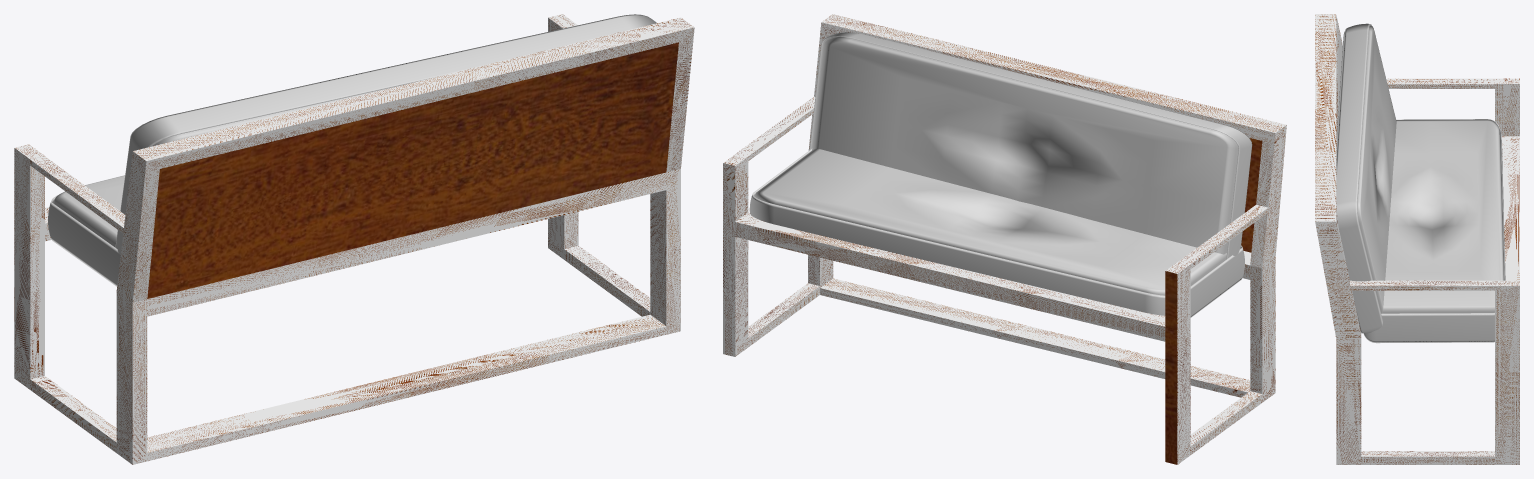
The picture shows the model from 3 angles, left to right: view 1: azimuth 30°, elevation 25°; view 2: azimuth 150°, elevation 25°; view 3: azimuth 270°, elevation 25°; orthographic projection. The views are drawn at different scales.
Parts seen in each view (by area): view 1: mesh3_mesh3-geometry, mesh1_mesh1-geometry; view 2: mesh1_mesh1-geometry, mesh3_mesh3-geometry; view 3: mesh1_mesh1-geometry, mesh3_mesh3-geometry.
Part boxes in pixels (x1=…): mesh3_mesh3-geometry: x1=14, y1=14, x2=694, y2=464; mesh1_mesh1-geometry: x1=48, y1=14, x2=656, y2=286; mesh1_mesh1-geometry: x1=749, y1=32, x2=1252, y2=317; mesh3_mesh3-geometry: x1=723, y1=14, x2=1286, y2=464; mesh1_mesh1-geometry: x1=1336, y1=23, x2=1505, y2=343; mesh3_mesh3-geometry: x1=1315, y1=14, x2=1519, y2=464.
Bounding box in the file's own units: 0.8205 × 0.4578 × 0.3422.
